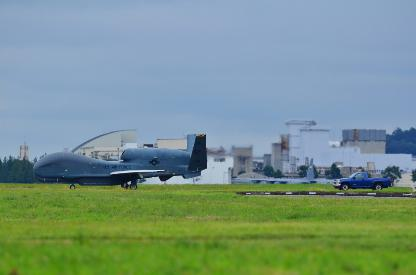Be200: (232, 156, 335, 182)
P3: (32, 133, 207, 188)
